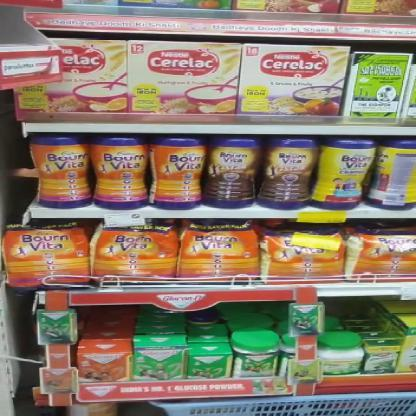Glucon D Regular 1-KG: (132, 343, 182, 380), (191, 349, 233, 380)
Glucon D Regular 2-KG: (239, 332, 281, 376)
Glucon D Tangy orange 1-KG: (75, 342, 123, 384)
